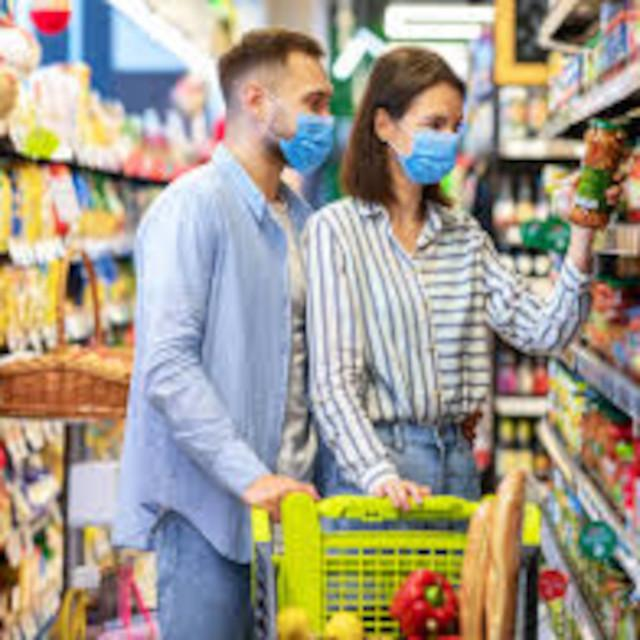kobieta: (308, 52, 487, 496)
mezczyzna: (132, 36, 327, 640)
